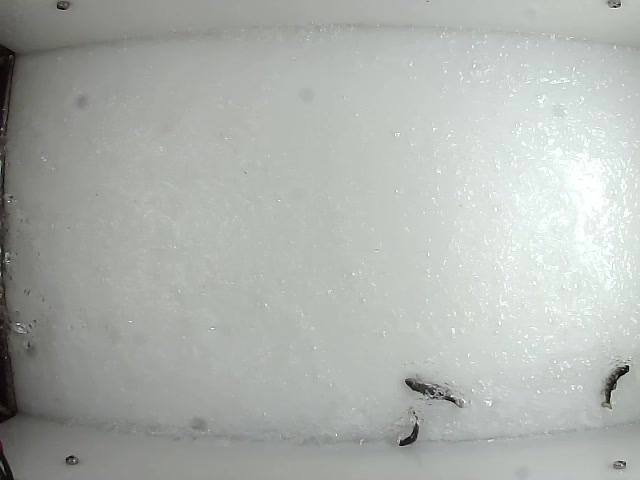fish: (404, 377, 468, 408), (599, 364, 629, 411), (397, 407, 422, 447)
